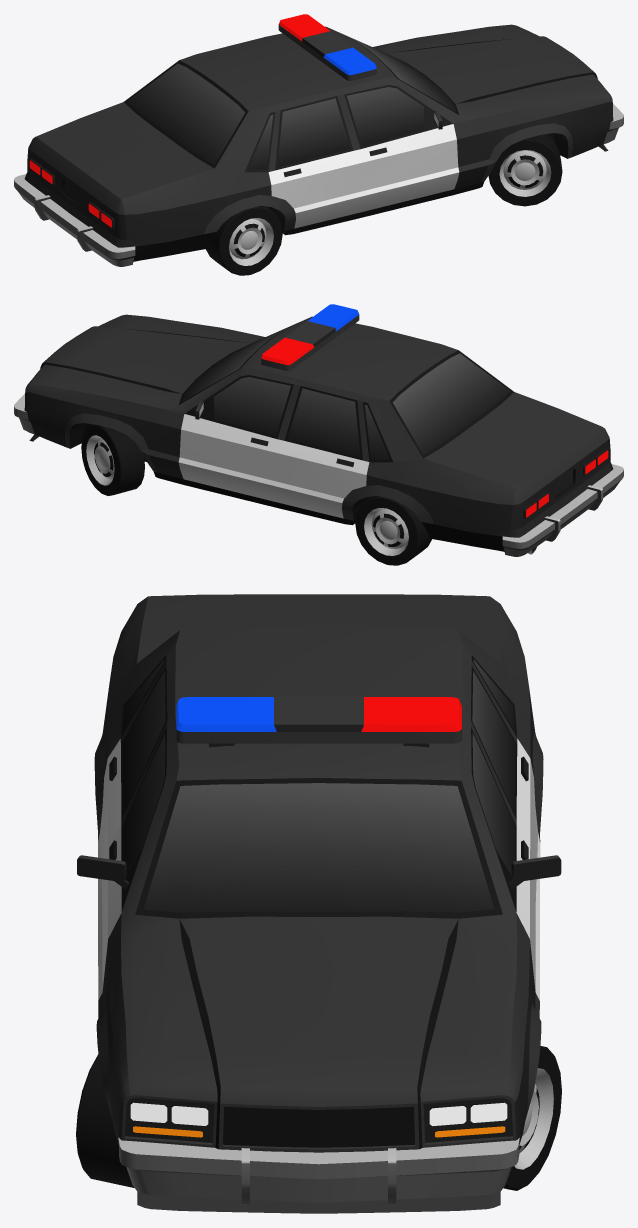
Rendered from Emergency_018.glb.
3 renders of one model, top to bottom at view 1: azimuth 30°, elevation 25°; view 2: azimuth 150°, elevation 25°; view 3: azimuth 270°, elevation 25°, orthographic. The views are drawn at different scales.
Visible parts, largest first — view 1: Emergency_018, wheel_1_Emergency_018_Wheel_1R, wheel_3_Emergency_018_Wheel_2R; view 2: Emergency_018, wheel_2_Emergency_018_Wheel_2L, wheel_0_Emergency_018_Wheel_1L; view 3: Emergency_018, wheel_0_Emergency_018_Wheel_1L, wheel_1_Emergency_018_Wheel_1R.
Part boxes in pixels (bbox=[...]): Emergency_018: bbox=[14, 14, 623, 266]; wheel_1_Emergency_018_Wheel_1R: bbox=[488, 134, 562, 206]; wheel_3_Emergency_018_Wheel_2R: bbox=[206, 206, 282, 275]; Emergency_018: bbox=[14, 304, 623, 556]; wheel_2_Emergency_018_Wheel_2L: bbox=[355, 496, 431, 565]; wheel_0_Emergency_018_Wheel_1L: bbox=[81, 424, 144, 495]; Emergency_018: bbox=[77, 594, 561, 1213]; wheel_0_Emergency_018_Wheel_1L: bbox=[503, 1046, 561, 1190]; wheel_1_Emergency_018_Wheel_1R: bbox=[76, 1054, 134, 1187].
Bounding box in the file's own units: 5.14 × 1.49 × 2.04.
Materials: 2 (2 with a texture image).
